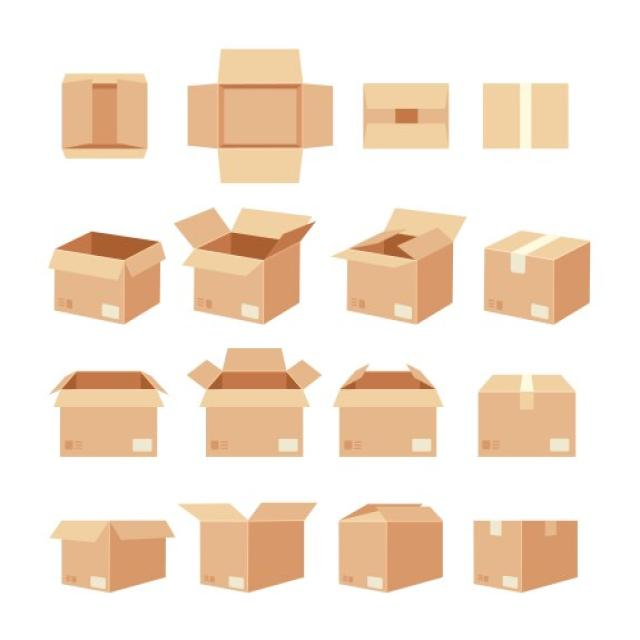box: (187, 43, 341, 194), (173, 200, 318, 325), (336, 201, 468, 326), (187, 351, 326, 465), (483, 209, 600, 330), (37, 218, 172, 322), (334, 350, 449, 469), (51, 364, 168, 476), (185, 499, 319, 591), (334, 499, 456, 598), (477, 361, 583, 472), (56, 511, 182, 600), (468, 508, 587, 602), (358, 72, 471, 165), (61, 71, 152, 163), (477, 76, 583, 153)
